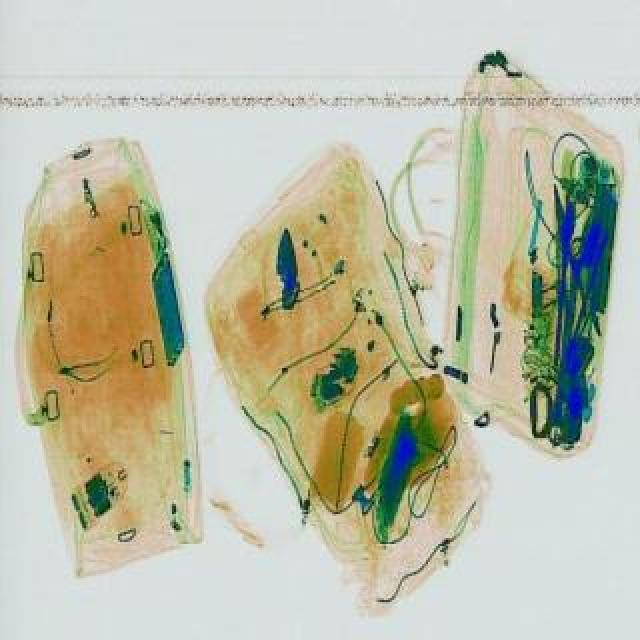scissors: (546, 234, 592, 446)
